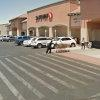Crosswalk: (7, 55, 94, 92)
